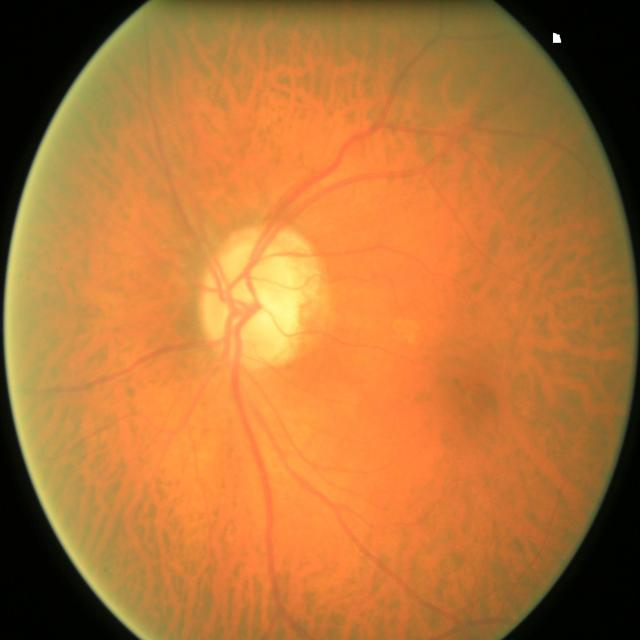OC: (241, 283, 274, 327)
OD: (204, 244, 296, 364)
